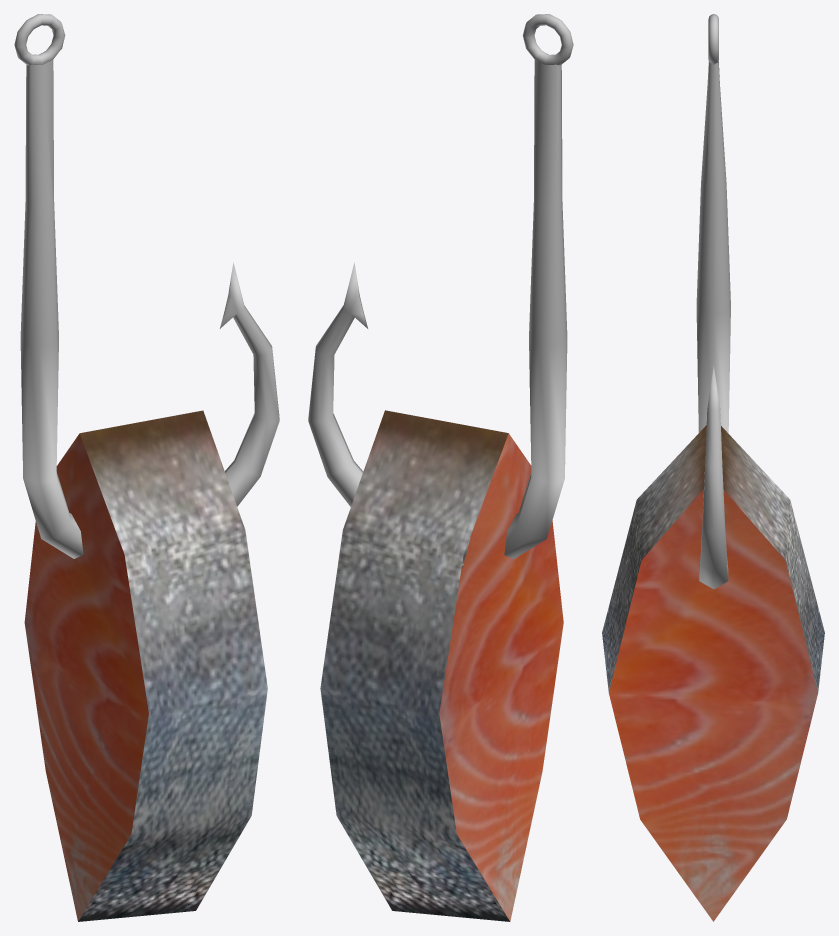
File: Bait_Salmon.fbx
The picture shows the model from 3 angles, left to right: view 1: azimuth 30°, elevation 25°; view 2: azimuth 150°, elevation 25°; view 3: azimuth 270°, elevation 25°; orthographic projection. The views are drawn at different scales.
Parts seen in each view (by area): view 1: Bait_SalmonChop; view 2: Bait_SalmonChop; view 3: Bait_SalmonChop.
Part boxes in pixels (box(x1,y1,x2,y2)): Bait_SalmonChop: box(14, 14, 279, 921); Bait_SalmonChop: box(308, 14, 573, 921); Bait_SalmonChop: box(602, 14, 824, 921).
Bounding box in the file's own units: 0.2116 × 0.7149 × 0.1725.
